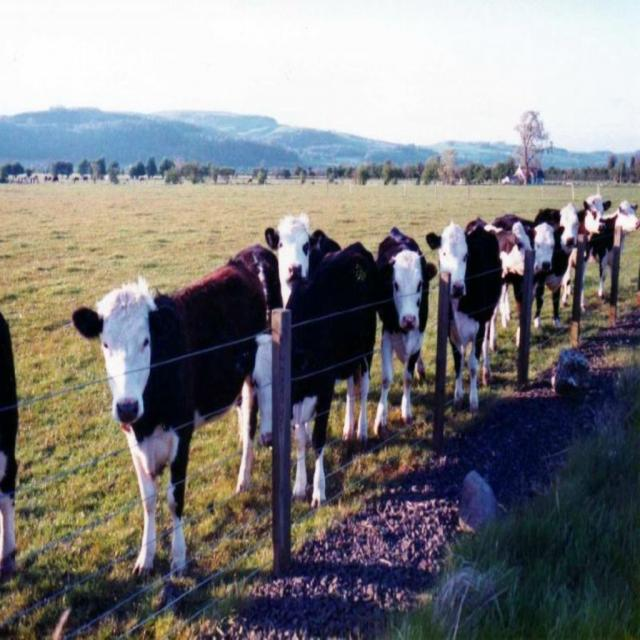Cattle: (0, 196, 640, 584)
